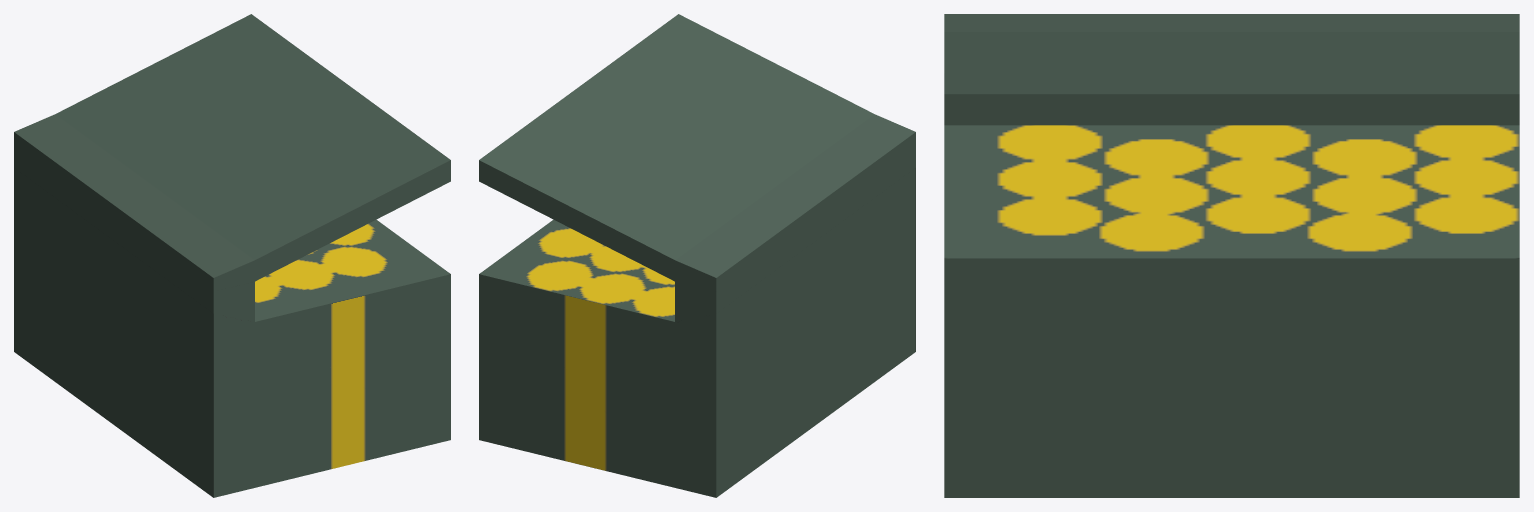
File: ammo_box.glb
The picture shows the model from 3 angles, left to right: view 1: azimuth 30°, elevation 25°; view 2: azimuth 150°, elevation 25°; view 3: azimuth 270°, elevation 25°; orthographic projection. The views are drawn at different scales.
Parts seen in each view (by area): view 1: Cube.001; view 2: Cube.001; view 3: Cube.001.
Part boxes in pixels (x1,y1,x2,y2): Cube.001: (14, 14, 450, 497); Cube.001: (479, 14, 915, 497); Cube.001: (944, 14, 1519, 497).
Size of the model in its own units: 10.9 by 12.29 by 15.88.
1 material, 1 textured.
